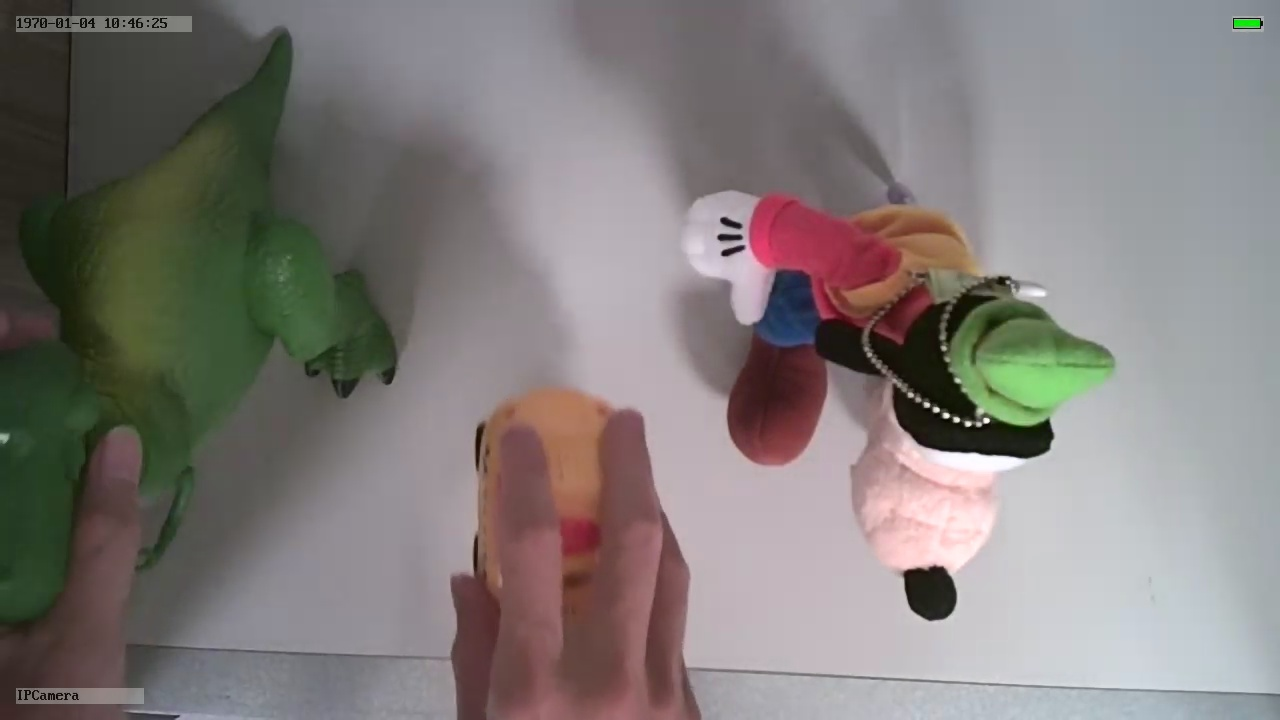goofy: (679, 186, 1119, 629)
